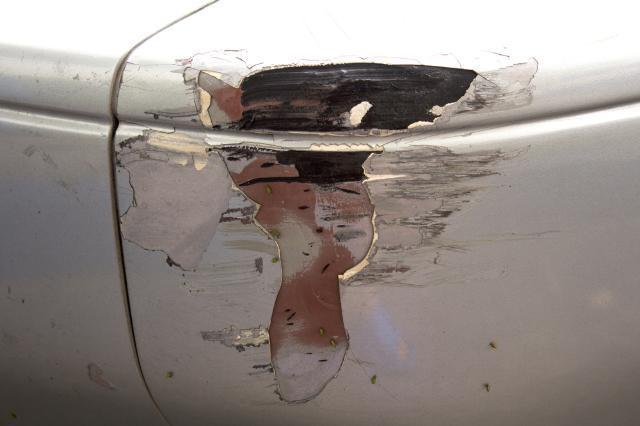scratch: (116, 46, 565, 421)
